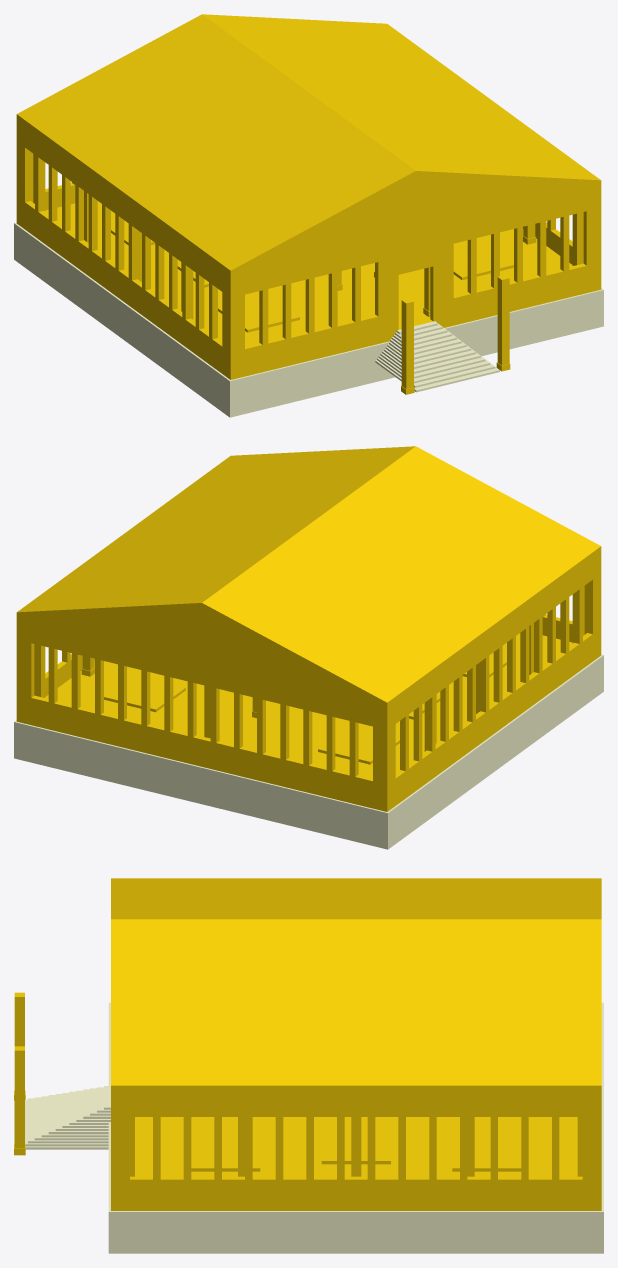
The model's file is Atelier.fbx.
The picture shows the model from 3 angles, top to bottom: view 1: azimuth 30°, elevation 25°; view 2: azimuth 150°, elevation 25°; view 3: azimuth 270°, elevation 25°; orthographic projection. The views are drawn at different scales.
Parts seen in each view (by area): view 1: Dach, Walls, Ground, Stairs_Entrance, Pillar20, Pillar19, Podest5, Podest3, Pillar17; view 2: Dach, Walls, Ground, Podest6, Podest1, Pillar16; view 3: Dach, Ground, Walls, Stairs_Entrance, Podest5, Podest6, Podest4, Pillar20, Pillar7, Pillar19.
Part boxes in pixels (x1,y1,x2,y2): Dach: [16, 14, 601, 279]; Walls: [16, 123, 601, 379]; Ground: [14, 201, 603, 417]; Stairs_Entrance: [375, 321, 499, 392]; Pillar20: [496, 275, 510, 371]; Pillar19: [401, 298, 414, 394]; Podest5: [453, 243, 513, 280]; Podest3: [218, 295, 299, 332]; Pillar17: [572, 212, 583, 265]; Dach: [16, 446, 601, 711]; Walls: [16, 555, 601, 811]; Ground: [14, 633, 603, 849]; Podest6: [104, 675, 185, 712]; Podest1: [318, 727, 399, 764]; Pillar16: [34, 644, 45, 697]; Dach: [111, 878, 601, 1095]; Ground: [108, 1002, 603, 1253]; Walls: [111, 1096, 601, 1210]; Stairs_Entrance: [14, 1086, 110, 1149]; Podest5: [191, 1139, 260, 1171]; Podest6: [452, 1139, 521, 1171]; Podest4: [321, 1132, 390, 1164]; Pillar20: [14, 1046, 25, 1155]; Pillar7: [351, 1117, 361, 1176]; Pillar19: [14, 992, 25, 1100].
Size of what is drawn, in the model's own units: 21.48 by 11 by 25.58.
